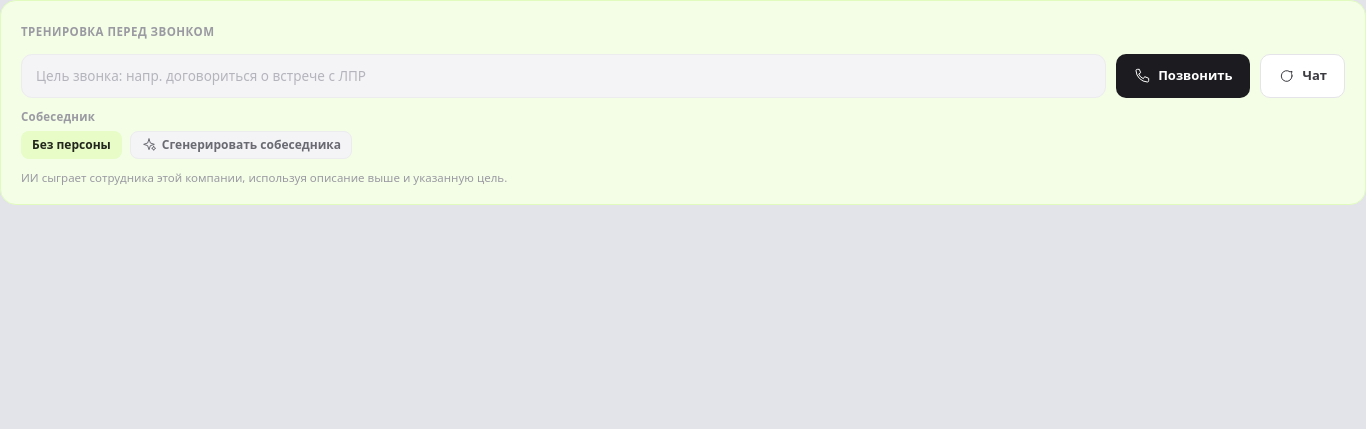
PrecallPanel › shows an error message when generation fails
The image size is (1366, 429).
Click the button "Сгенерировать собеседника" at (241, 145), box top-left (130, 131), bottom-right (352, 159)
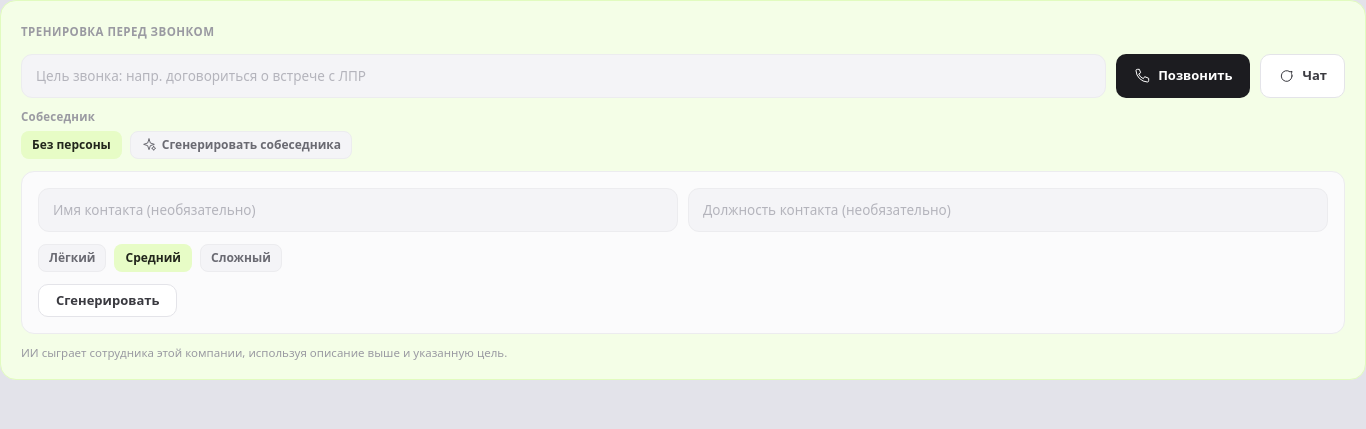
Click the button "Сгенерировать" at (108, 300), box top-left (38, 284), bottom-right (177, 317)
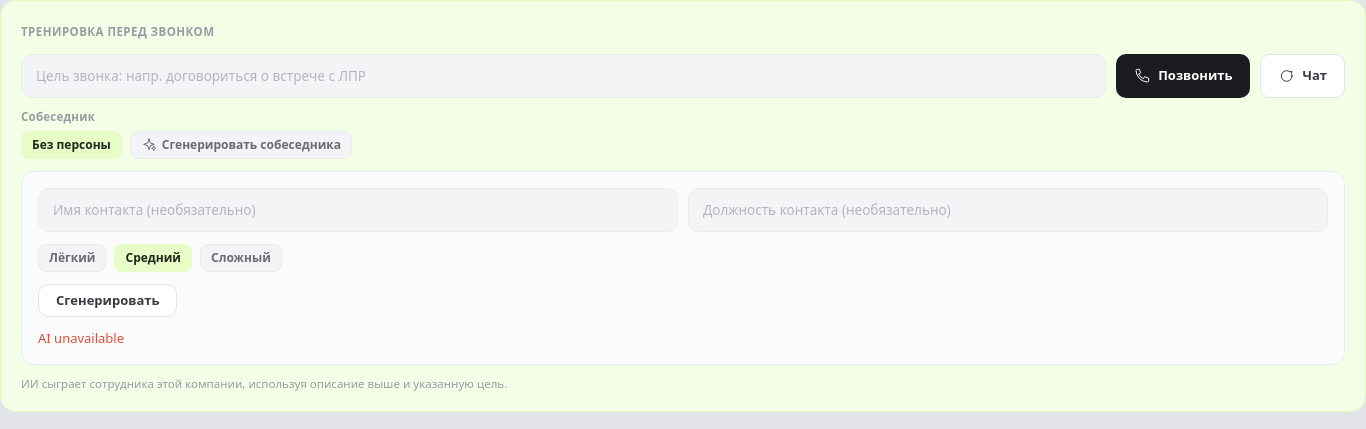
Result: the text "AI unavailable" is shown at top-left (38, 329), bottom-right (124, 347)
